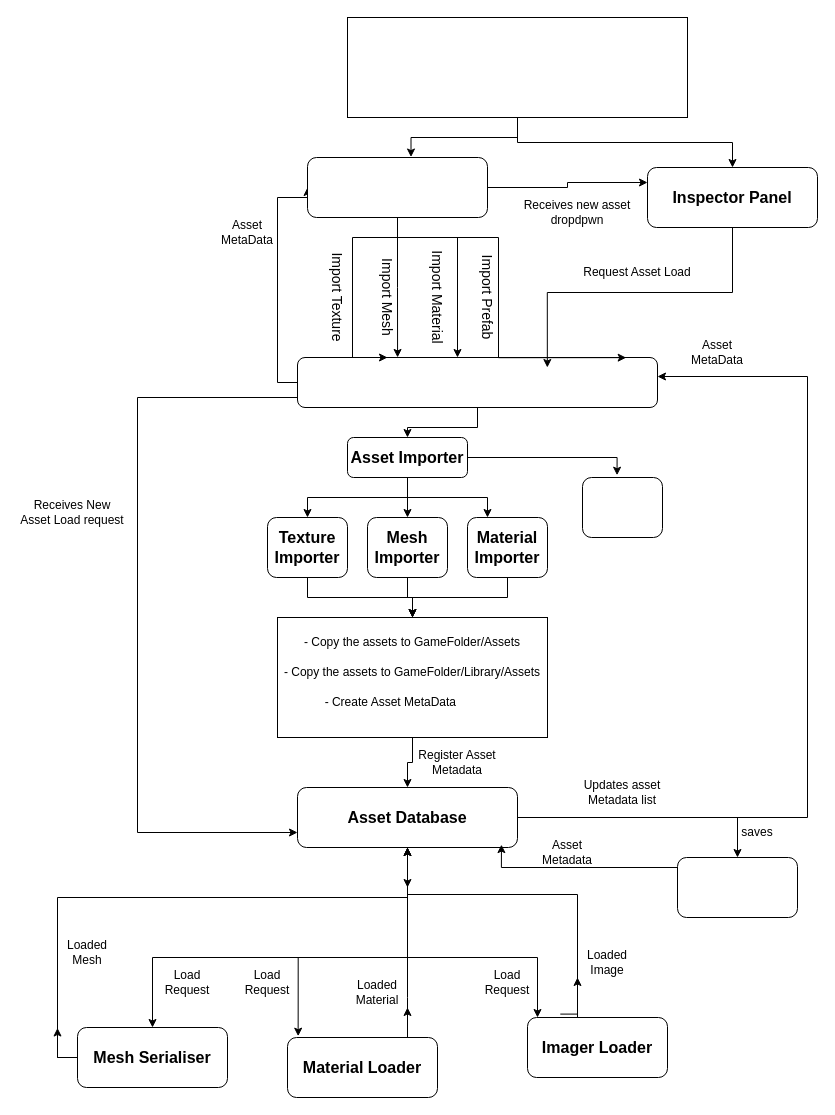
Some shapes in this 835 by 1115 pixel diagram are drawn without their labels. Here are the shapes that lost their labels. From the top down, the box of each, then its label:
(346, 16, 688, 118): EditorLayer
(306, 156, 488, 218): Asset Panel
(296, 356, 658, 408): Asset Manager
(582, 476, 662, 538): Prefab Importer
(676, 856, 798, 918): assetdb.json
